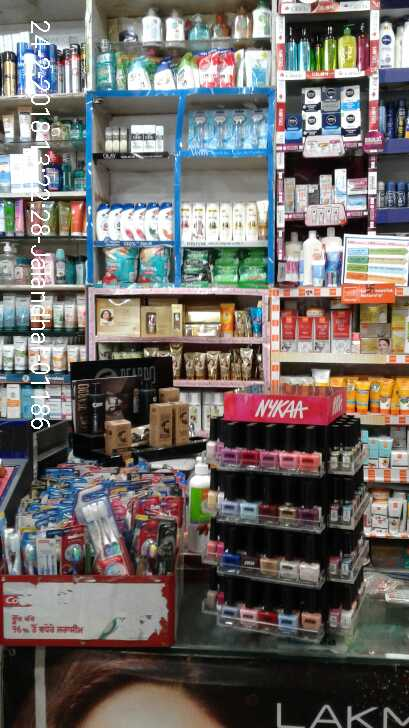venus: (230, 107, 250, 147), (250, 107, 269, 147), (212, 107, 230, 148), (190, 109, 210, 145)
